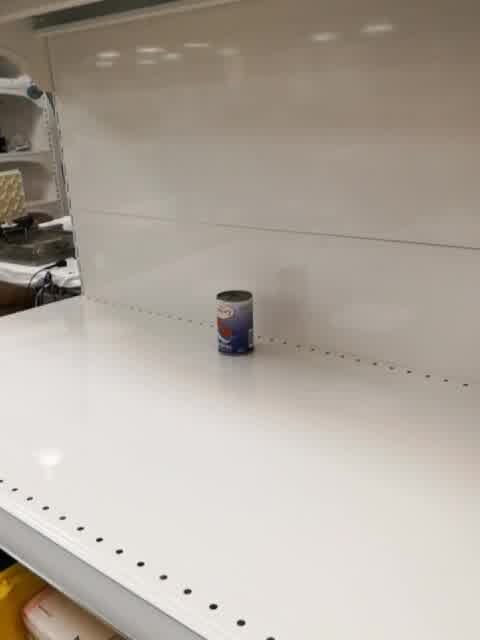sardine: (215, 288, 255, 357)
